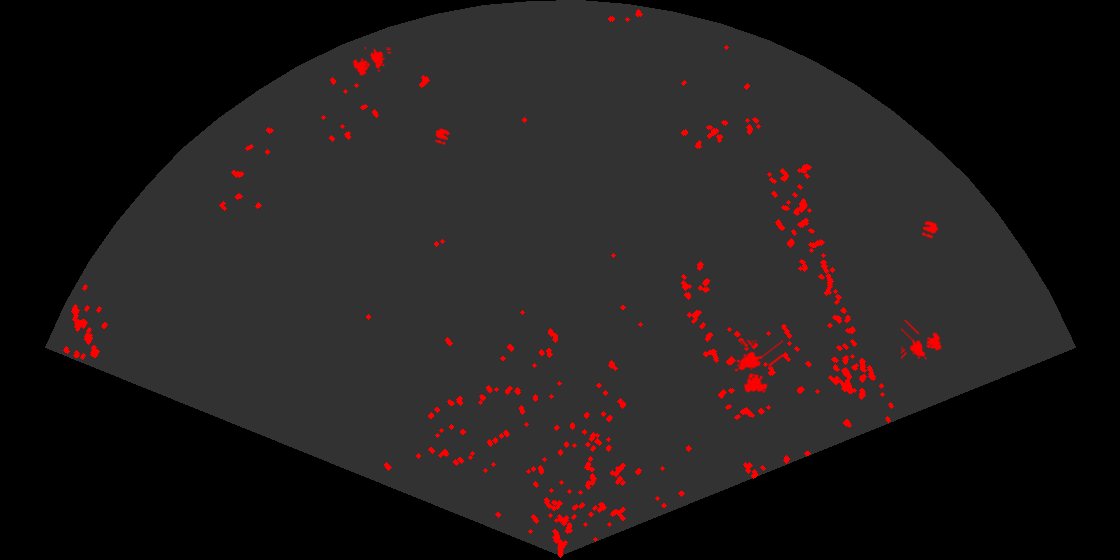ball: (920, 219, 940, 240), (433, 127, 451, 146)
cage: (733, 340, 783, 394), (901, 320, 943, 361), (351, 47, 391, 77)
